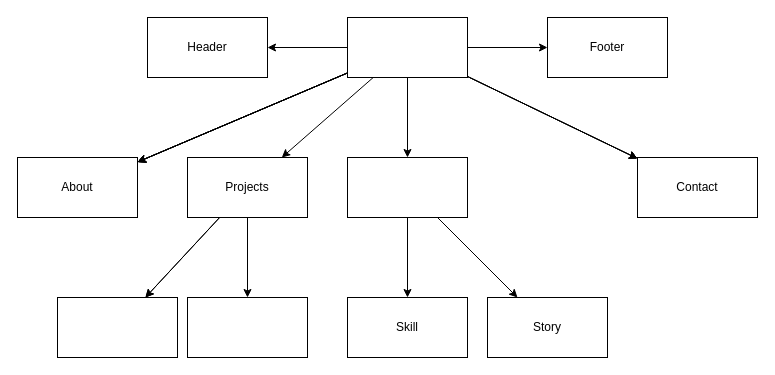
This 775x375 diagram has some shape labels left out. The shapes that lost their labels are listed below. From the top down, each one's box as (x1, y1, x2, y2) in pixels, then its label:
(346, 16, 468, 78): App
(346, 156, 468, 218): Experience
(56, 296, 178, 358): Project
(186, 296, 308, 358): Publication
